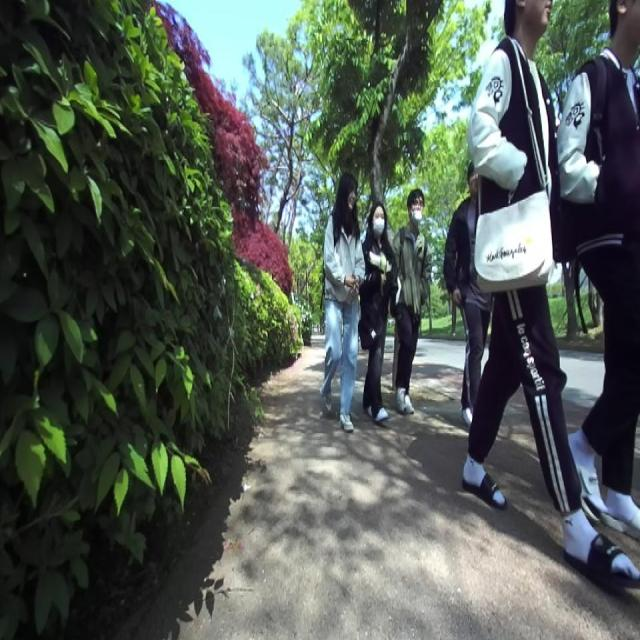sidewalk: (124, 345, 640, 639)
